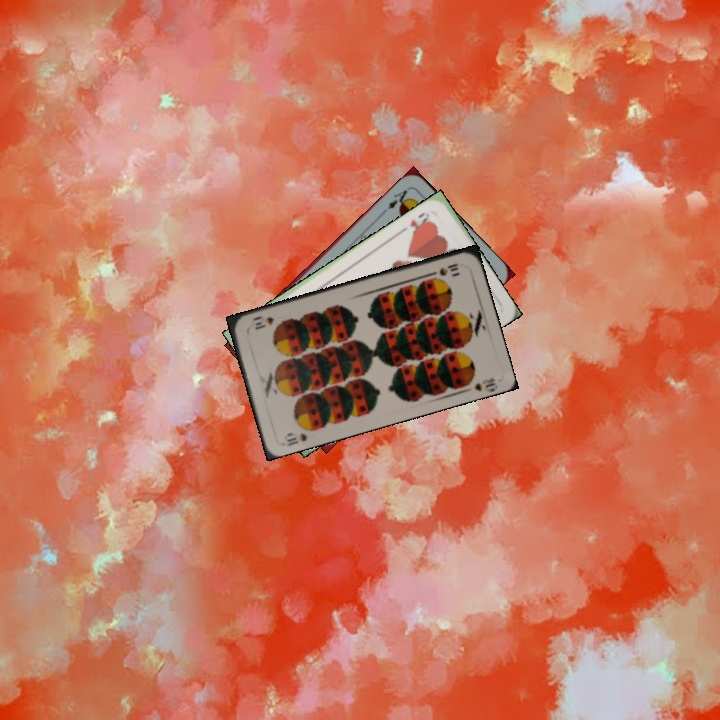EA: (379, 184, 412, 216)
HO: (406, 208, 433, 235)
S10: (425, 259, 461, 278), (283, 429, 311, 449)
